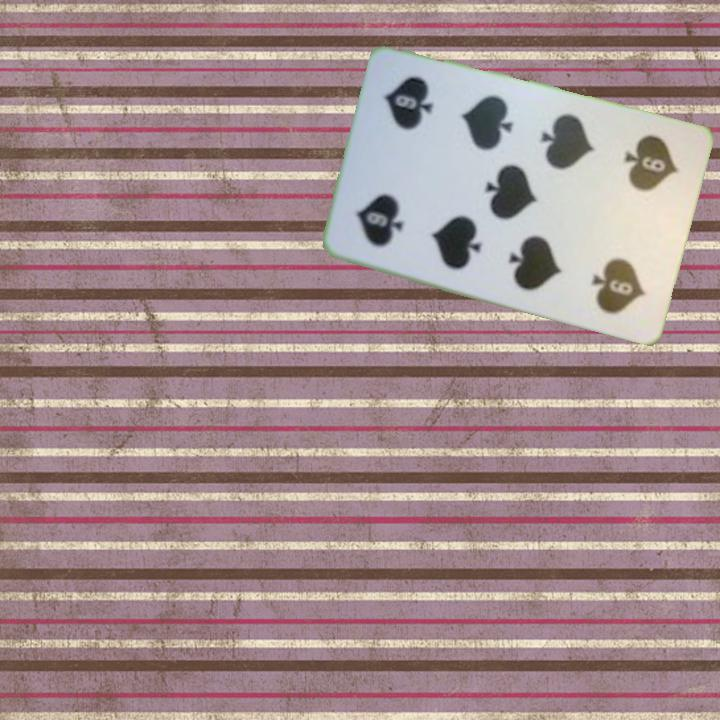s_9.png: (588, 119, 696, 237), (336, 149, 444, 266)
